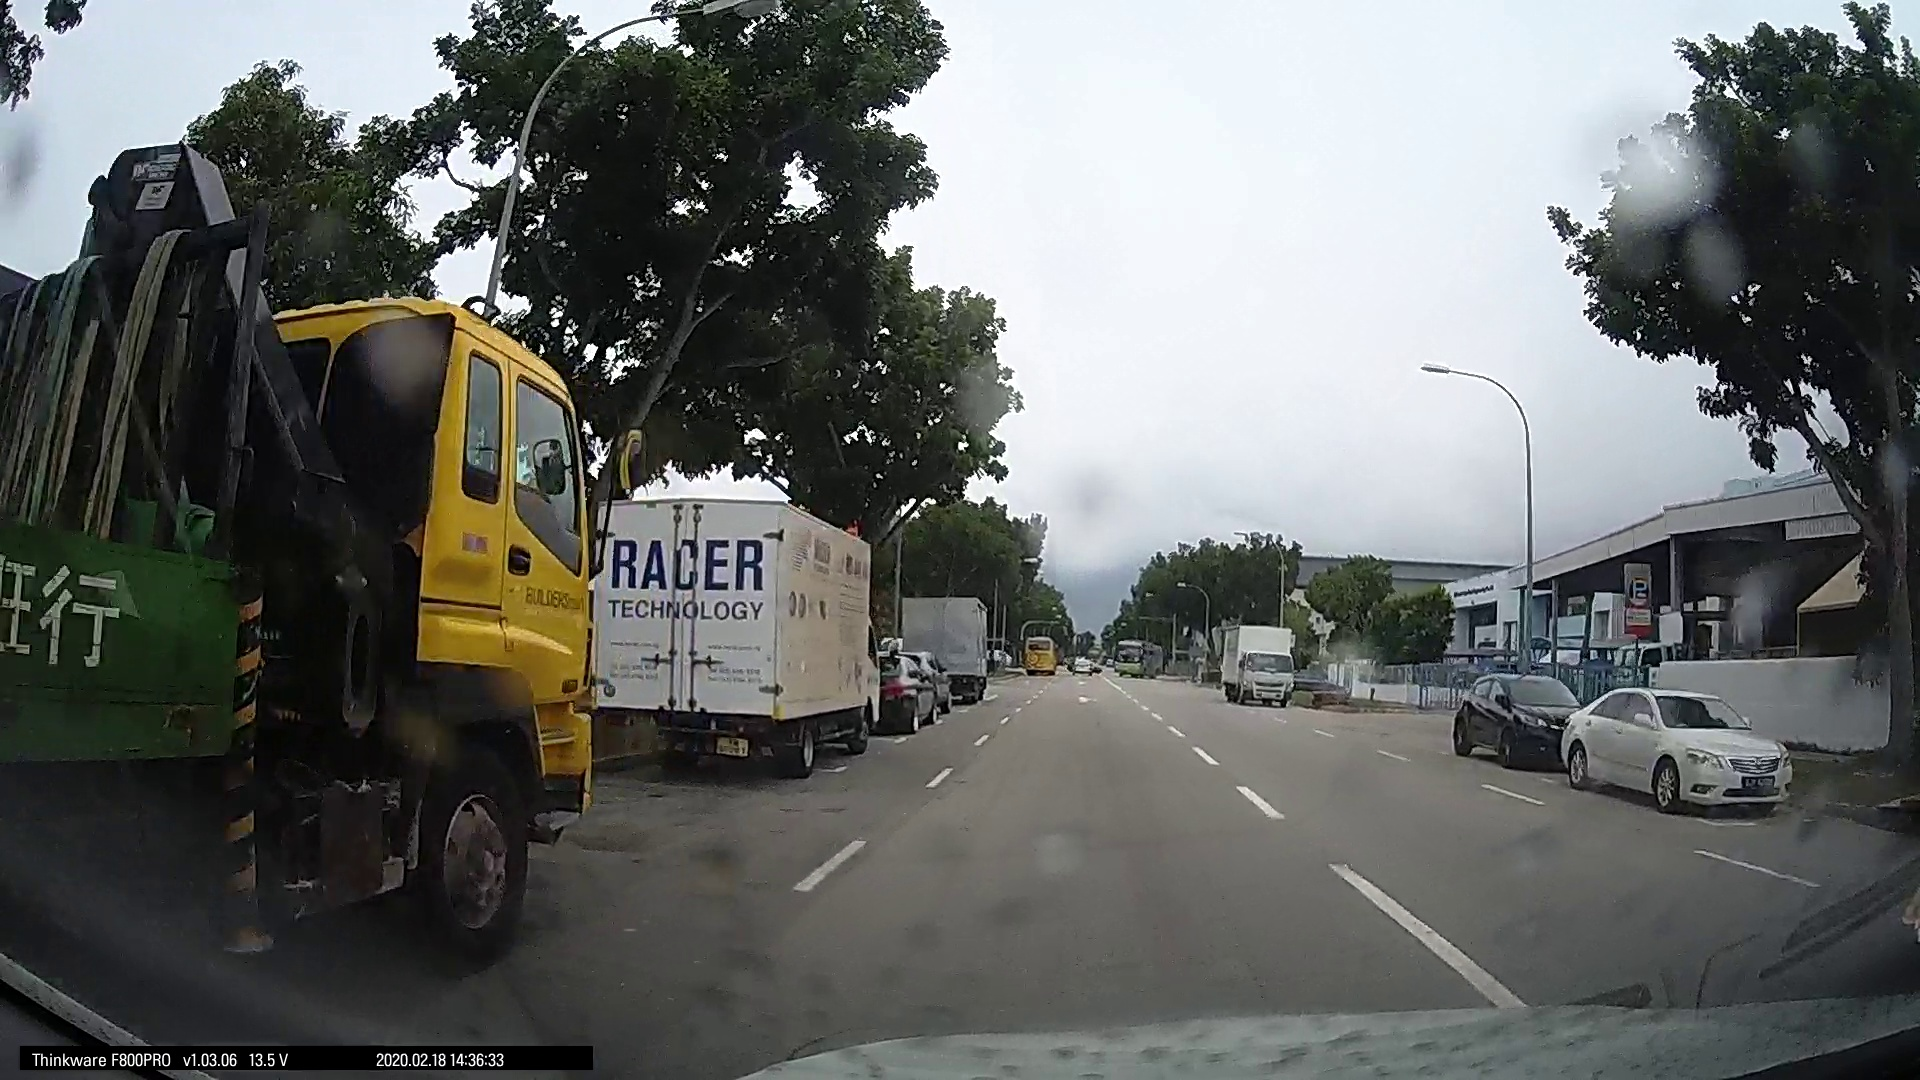Heavy Vehicle: (71, 260, 612, 982), (587, 481, 882, 790), (894, 584, 986, 705), (1218, 626, 1294, 705)
Light Vehicle: (1553, 679, 1793, 815), (1449, 665, 1580, 769), (872, 644, 943, 731), (1019, 628, 1058, 674)
